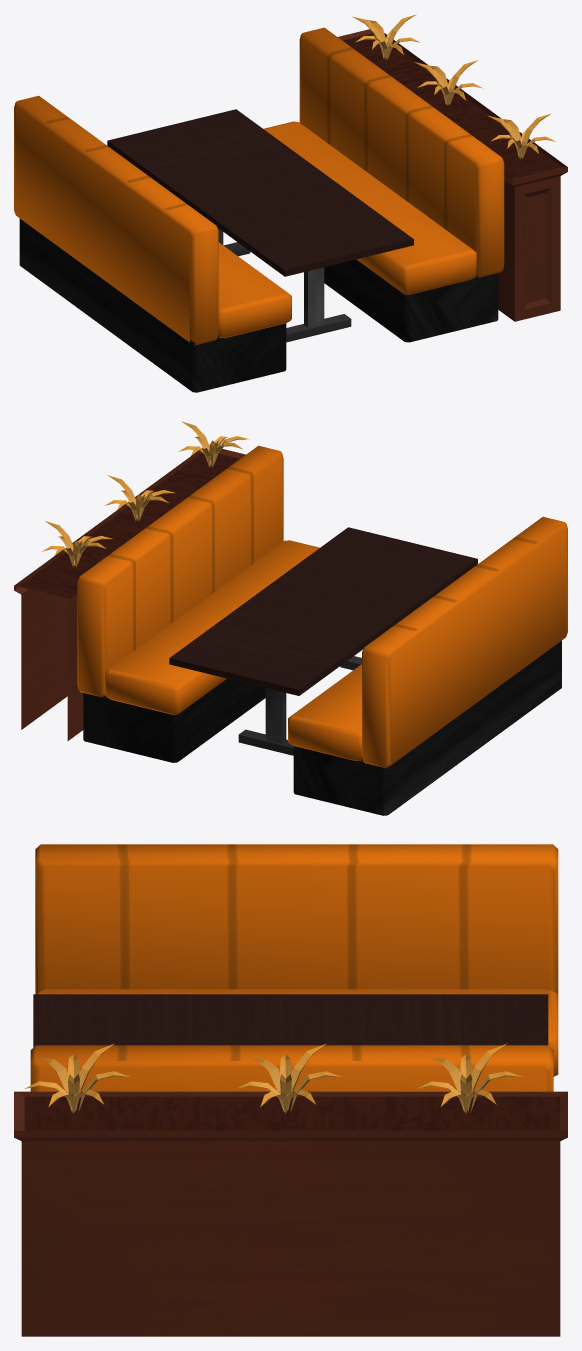
Rendered from booth.gltf.
3 renders of one model, top to bottom at view 1: azimuth 30°, elevation 25°; view 2: azimuth 150°, elevation 25°; view 3: azimuth 270°, elevation 25°, orthographic. The views are drawn at different scales.
Visible parts, largest first — view 1: Plane.010; view 2: Plane.010; view 3: Plane.010.
Part boxes in pixels (<box>): Plane.010: <box>14,14,567,392</box>; Plane.010: <box>14,421,567,815</box>; Plane.010: <box>14,844,567,1336</box>.
Size of the model in its own units: 4.06 by 1.9 by 3.6.
